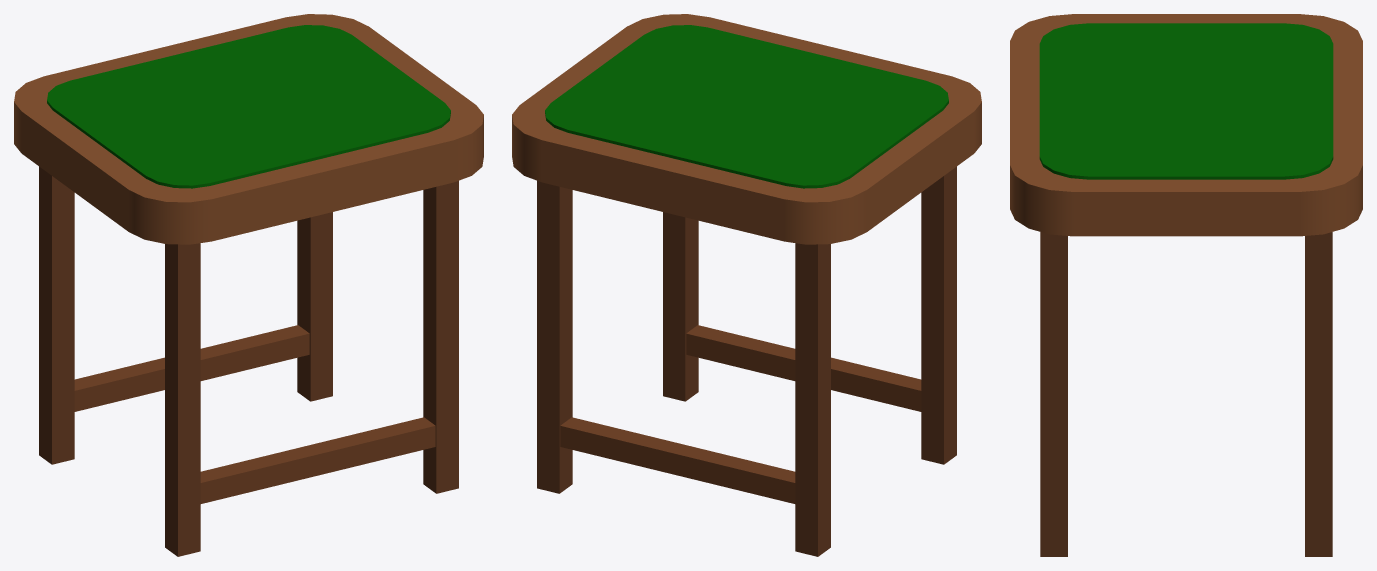
Rendered from CMU3DInheritedStructureCMTableWoodenGamblingCloud.glb.
3 views of the same model, side by side, from view 1: azimuth 30°, elevation 25°; view 2: azimuth 150°, elevation 25°; view 3: azimuth 270°, elevation 25° (orthographic). The views are drawn at different scales.
Parts seen in each view (by area): view 1: green felt wide band, green felt deep band, timber top deep band, timber leg (-0.32, -0.27), timber leg (0.32, -0.27), timber leg (-0.32, 0.27), timber top wide band, lower timber stretcher -0.27, lower timber stretcher 0.27, timber leg (0.32, 0.27), timber top rounded corner (-1, -1), green felt rounded corner (-1, -1) (+6 smaller); view 2: green felt wide band, green felt deep band, timber top deep band, timber leg (-0.32, 0.27), timber leg (0.32, 0.27), timber leg (-0.32, -0.27), timber top wide band, lower timber stretcher 0.27, lower timber stretcher -0.27, timber leg (0.32, -0.27), timber top rounded corner (-1, 1), green felt rounded corner (-1, 1) (+6 smaller); view 3: green felt wide band, green felt deep band, timber top wide band, timber leg (0.32, -0.27), timber leg (0.32, 0.27), timber top deep band, timber top rounded corner (1, -1), timber top rounded corner (1, 1), green felt rounded corner (1, 1), green felt rounded corner (1, -1), green felt rounded corner (-1, -1), green felt rounded corner (-1, 1) (+2 smaller).
Boxes of the visible parts, <box> form: green felt wide band: <box>53,34,444,178</box>; green felt deep band: <box>70,27,427,185</box>; timber top deep band: <box>44,17,453,241</box>; timber leg (-0.32, -0.27): <box>165,243,200,556</box>; timber leg (0.32, -0.27): <box>423,180,458,493</box>; timber leg (-0.32, 0.27): <box>39,166,74,464</box>; timber top wide band: <box>21,26,475,231</box>; lower timber stretcher -0.27: <box>200,417,435,503</box>; lower timber stretcher 0.27: <box>74,325,309,411</box>; timber leg (0.32, 0.27): <box>297,212,332,401</box>; timber top rounded corner (-1, -1): <box>123,168,240,244</box>; green felt rounded corner (-1, -1): <box>141,146,231,188</box>; green felt wide band: <box>551,34,942,178</box>; green felt deep band: <box>568,27,925,185</box>; timber top deep band: <box>542,17,951,241</box>; timber leg (-0.32, 0.27): <box>795,243,830,556</box>; timber leg (0.32, 0.27): <box>537,180,572,493</box>; timber leg (-0.32, -0.27): <box>921,166,956,464</box>; timber top wide band: <box>520,26,974,231</box>; lower timber stretcher 0.27: <box>560,417,795,503</box>; lower timber stretcher -0.27: <box>686,325,921,411</box>; timber leg (0.32, -0.27): <box>663,212,698,401</box>; timber top rounded corner (-1, 1): <box>755,167,873,244</box>; green felt rounded corner (-1, 1): <box>763,146,855,188</box>; green felt wide band: <box>1088,23,1284,179</box>; green felt deep band: <box>1039,44,1333,155</box>; timber top wide band: <box>1073,14,1299,236</box>; timber leg (0.32, -0.27): <box>1040,232,1067,556</box>; timber leg (0.32, 0.27): <box>1305,232,1332,556</box>; timber top deep band: <box>1010,41,1362,164</box>; timber top rounded corner (1, -1): <box>1010,143,1124,236</box>; timber top rounded corner (1, 1): <box>1255,143,1362,236</box>; green felt rounded corner (1, 1): <box>1237,135,1333,179</box>; green felt rounded corner (1, -1): <box>1039,136,1136,179</box>; green felt rounded corner (-1, -1): <box>1039,23,1136,64</box>; green felt rounded corner (-1, 1): <box>1236,23,1333,64</box>.
Size of the model in its own units: 0.86 by 0.867 by 0.72.
